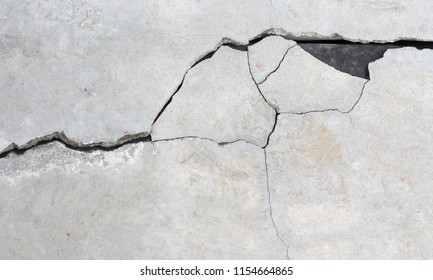crack: (0, 25, 432, 157), (261, 147, 289, 258)
